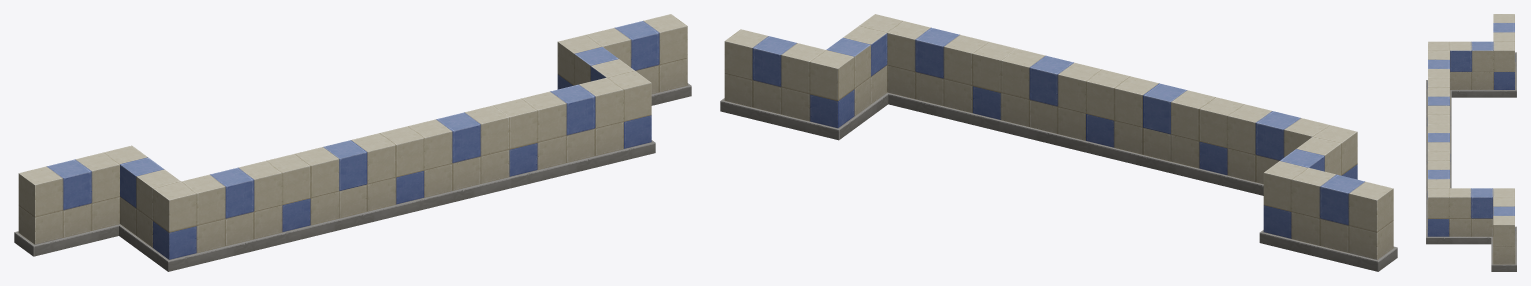
Rendered from sc_wjgc_001_006.FBX.
3 renders of one model, left to right at view 1: azimuth 30°, elevation 25°; view 2: azimuth 150°, elevation 25°; view 3: azimuth 270°, elevation 25°, orthographic. The views are drawn at different scales.
Parts seen in each view (by area): view 1: sc_wjgc_001_006; view 2: sc_wjgc_001_006; view 3: sc_wjgc_001_006.
Part boxes in pixels (x1,y1,x2,y2): sc_wjgc_001_006: [14, 14, 691, 271]; sc_wjgc_001_006: [720, 14, 1397, 271]; sc_wjgc_001_006: [1426, 14, 1516, 271].
Bounding box in the file's own units: 46.39 × 4.7 × 8.38.
